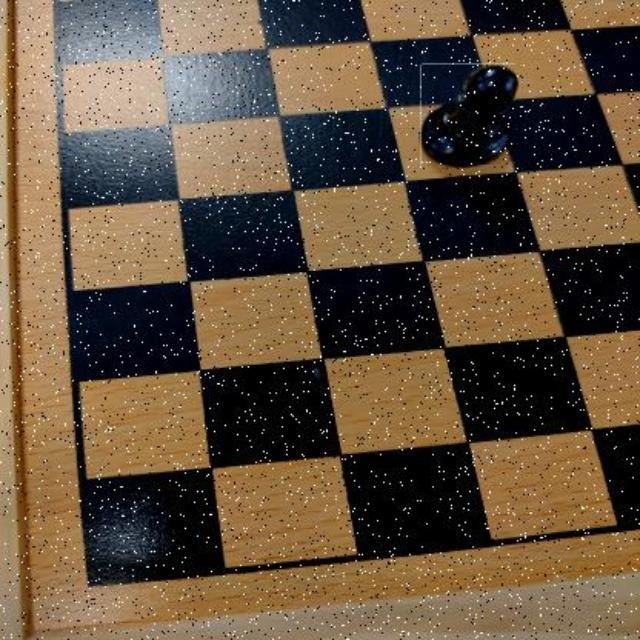black-pawn: (420, 63, 516, 166)
